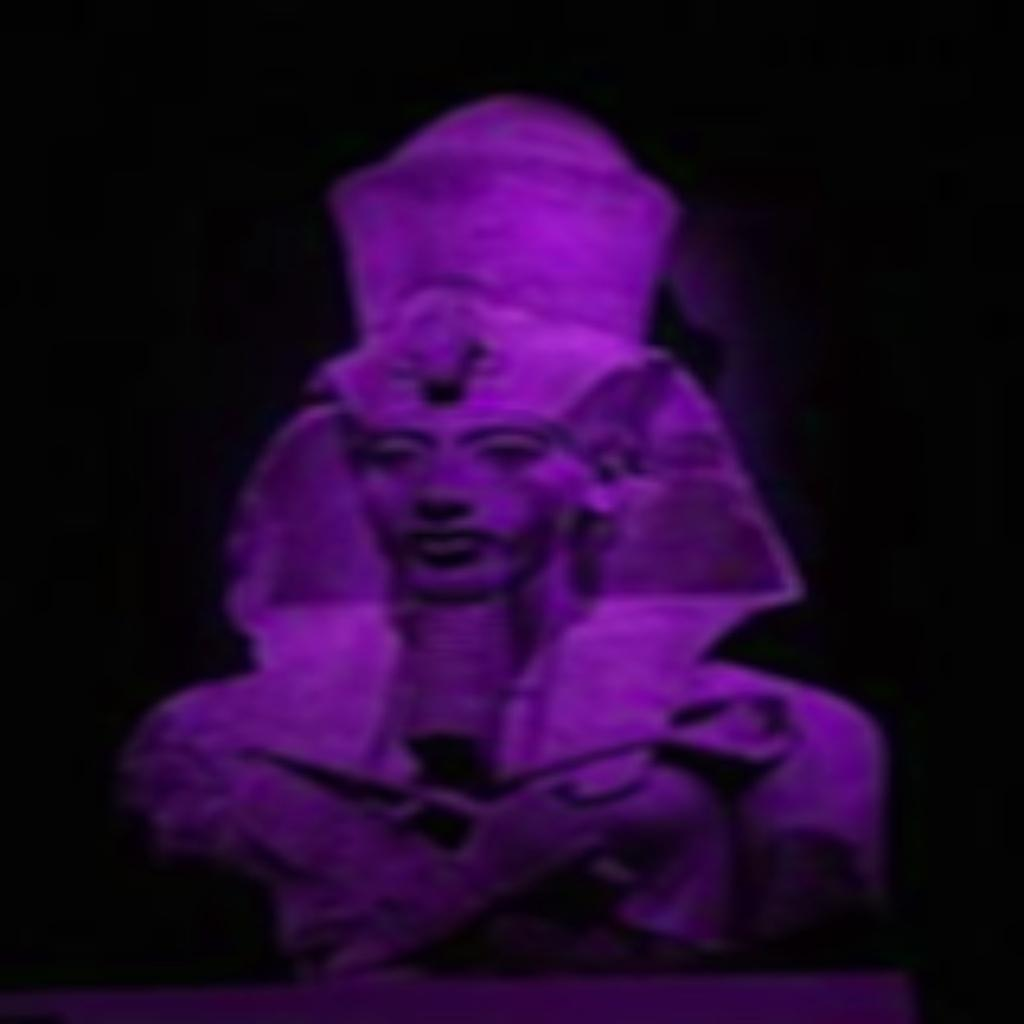Akhenaten: (130, 90, 884, 986)
